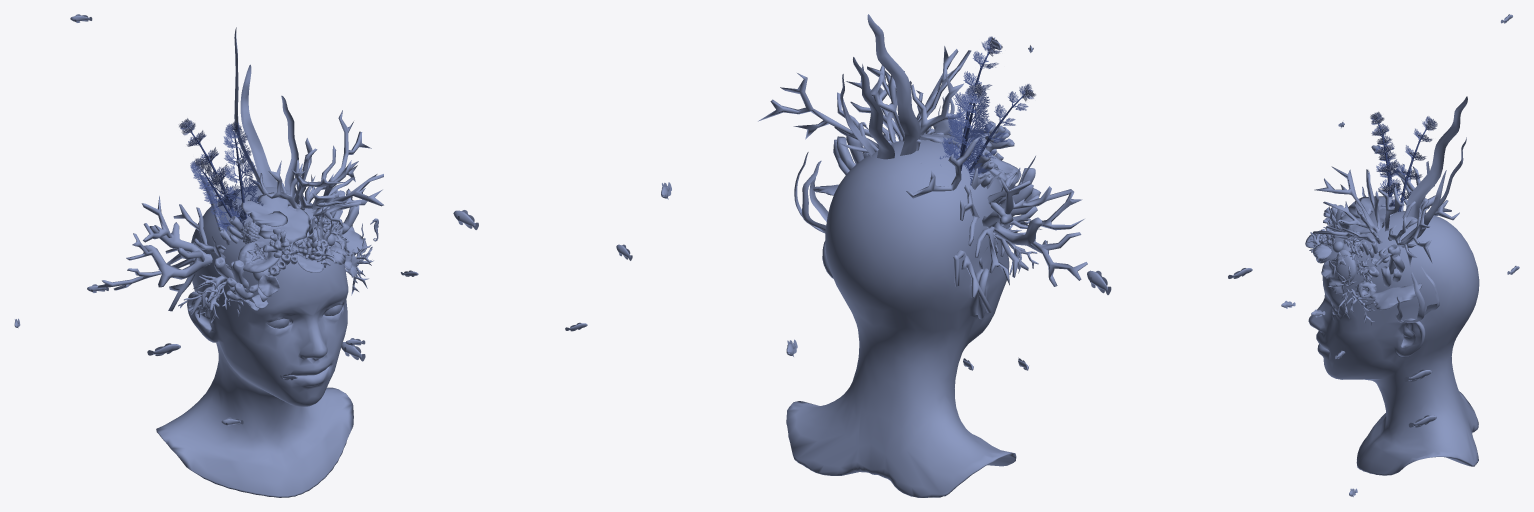
Rendered from website_avatar_soph_v15.gltf.
The picture shows the model from 3 angles, left to right: view 1: azimuth 30°, elevation 25°; view 2: azimuth 150°, elevation 25°; view 3: azimuth 270°, elevation 25°; orthographic projection. The views are drawn at different scales.
Parts seen in each view (by area): view 1: BASEFACE, Acropora_big_03_1, Alcyonacea_red_01, Seaweed_2, Coral_Acropora_01, Wiertje0, Wiertje2, Wiertje1, Tube_Coral_purple_01_1, Acropora_big_03, Turbinaria_peltata; view 2: BASEFACE, Acropora_big_03_1, Alcyonacea_red_01, Seaweed_2, Wiertje1, Wiertje0, Wiertje2, Seaweed_5, Tube_Coral_01_2, Tube_Coral_purple_01_1; view 3: BASEFACE, Alcyonacea_red_01, Seaweed_2, Wiertje0, Wiertje1, Coral_Acropora_01, Tube_Coral_01_2, Acropora_big_03_1, Coral_Acropora_part_5, Seaweed_5, Acropora_big_03_2, Wiertje2 (+2 smaller).
Boxes of the visible parts, <box> form: BASEFACE: <box>156,185,353,497</box>; Acropora_big_03_1: <box>97,172,230,315</box>; Alcyonacea_red_01: <box>243,110,383,226</box>; Seaweed_2: <box>234,27,298,193</box>; Coral_Acropora_01: <box>241,192,309,243</box>; Wiertje0: <box>223,121,263,220</box>; Wiertje2: <box>190,158,245,231</box>; Wiertje1: <box>179,118,246,226</box>; Tube_Coral_purple_01_1: <box>214,257,258,301</box>; Acropora_big_03: <box>178,274,243,322</box>; Turbinaria_peltata: <box>237,240,279,273</box>; BASEFACE: <box>786,140,1016,497</box>; Acropora_big_03_1: <box>906,136,1087,312</box>; Alcyonacea_red_01: <box>758,46,971,163</box>; Seaweed_2: <box>840,14,920,159</box>; Wiertje1: <box>939,83,989,185</box>; Wiertje0: <box>942,36,1002,161</box>; Wiertje2: <box>960,84,1035,174</box>; Seaweed_5: <box>794,152,828,233</box>; Tube_Coral_01_2: <box>833,133,869,174</box>; Tube_Coral_purple_01_1: <box>1000,168,1040,224</box>; BASEFACE: <box>1308,211,1479,475</box>; Alcyonacea_red_01: <box>1312,166,1431,266</box>; Seaweed_2: <box>1406,96,1467,238</box>; Wiertje0: <box>1370,111,1401,206</box>; Wiertje1: <box>1390,116,1437,211</box>; Coral_Acropora_01: <box>1334,196,1394,233</box>; Tube_Coral_01_2: <box>1368,244,1404,286</box>; Acropora_big_03_1: <box>1393,161,1459,220</box>; Coral_Acropora_part_5: <box>1369,283,1421,310</box>; Seaweed_5: <box>1395,266,1439,322</box>; Acropora_big_03_2: <box>1328,277,1376,325</box>; Wiertje2: <box>1376,124,1402,206</box>.
Bounding box in the file's own units: 389 × 299 × 164.
37 materials, 2 textured.
